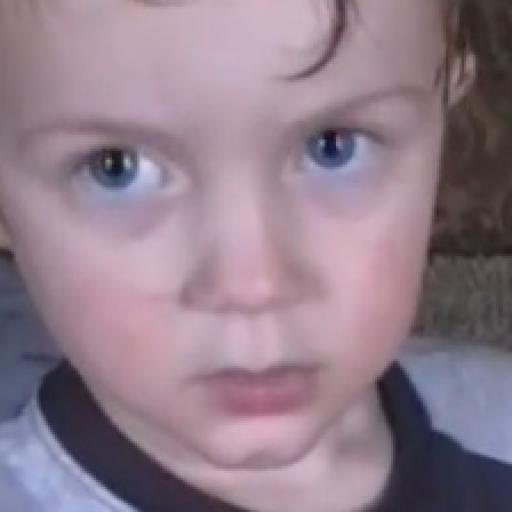Autism: (6, 10, 423, 481)
